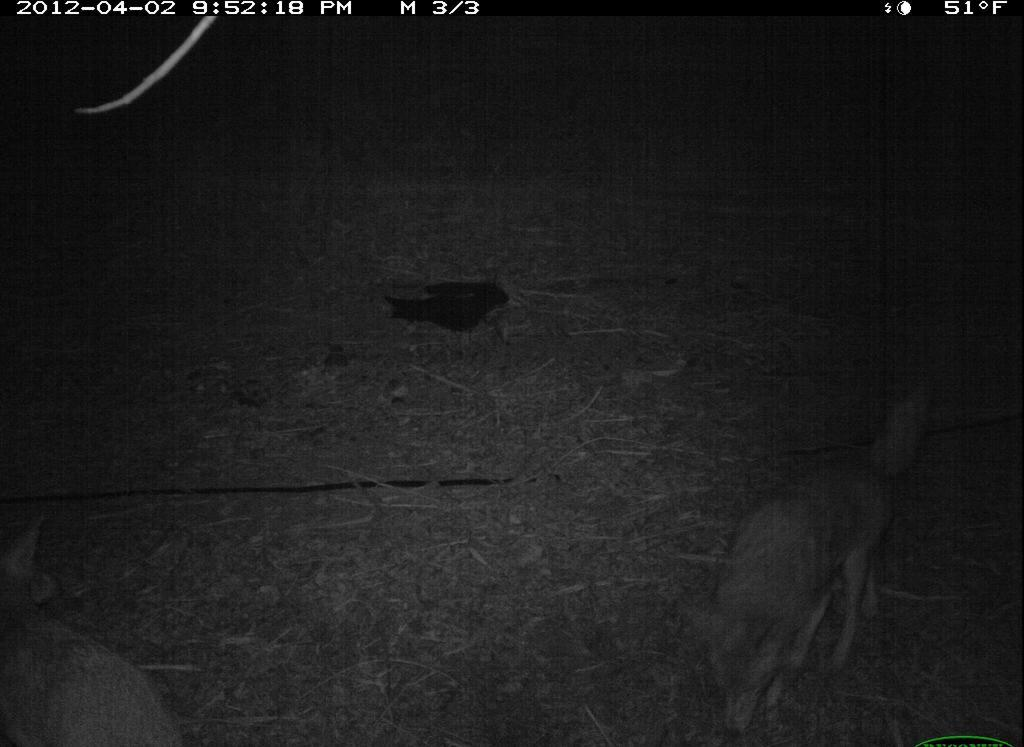coyote: (696, 377, 930, 738), (1, 508, 197, 747)
